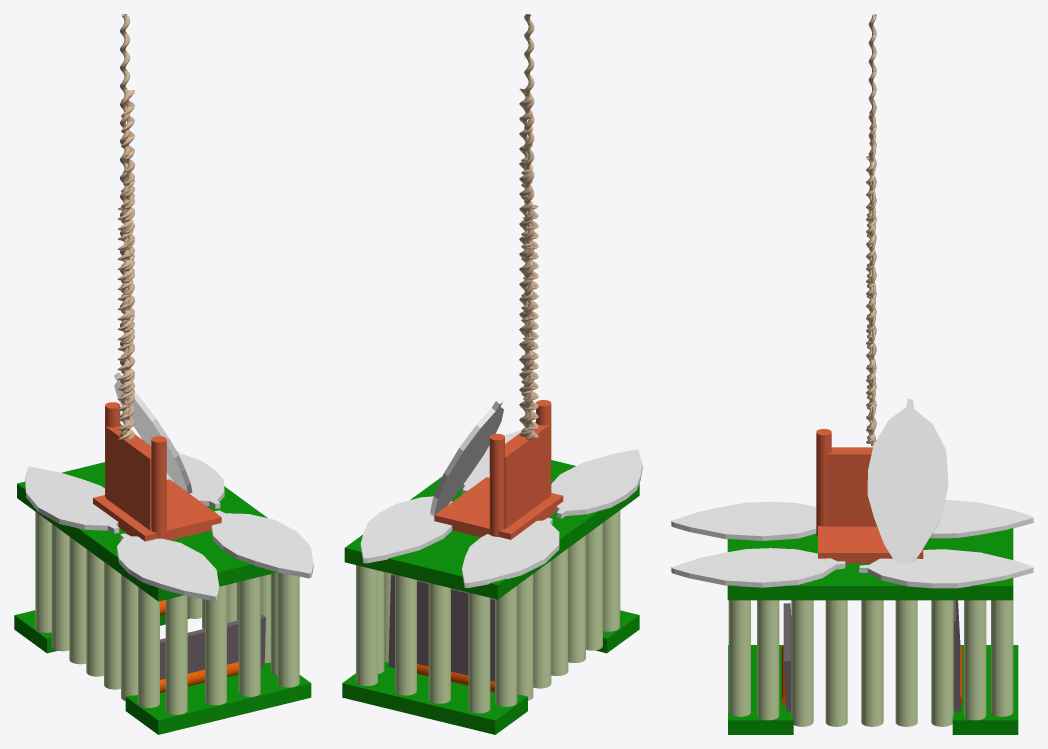
Rendered from cage4.fbx.
3 renders of one model, left to right at view 1: azimuth 30°, elevation 25°; view 2: azimuth 150°, elevation 25°; view 3: azimuth 270°, elevation 25°, orthographic.
Visible parts, largest first — view 1: Cube, Circle, Cube.004, Cube.008, Cube.009, Cube.007, Cube.002, Cube.001, Cylinder.019, Cylinder.021, Cylinder.018, Cylinder.010 (+14 smaller); view 2: Cube, Circle, Cube.005, Cube.008, Cube.007, Cube.003, Cube.002, Cube.006, Cube.001, Cylinder.025, Cylinder.024, Cylinder.016 (+15 smaller); view 3: Cube.010, Cube, Cube.009, Cube.003, Cube.008, Cube.002, Circle, Cylinder.003, Cylinder.005, Cylinder.004, Cylinder.006, Cylinder.002 (+11 smaller).
Part boxes in pixels (bbox=[...]): Cube: bbox=[17, 452, 277, 601]; Circle: bbox=[117, 14, 134, 439]; Cube.004: bbox=[125, 662, 311, 734]; Cube.008: bbox=[117, 533, 219, 601]; Cube.009: bbox=[211, 510, 313, 578]; Cube.007: bbox=[25, 466, 119, 533]; Cube.002: bbox=[105, 424, 151, 530]; Cube.001: bbox=[93, 479, 221, 541]; Cylinder.019: bbox=[238, 576, 260, 696]; Cylinder.021: bbox=[165, 595, 187, 714]; Cylinder.018: bbox=[277, 572, 299, 687]; Cylinder.010: bbox=[138, 587, 159, 707]; Cube: bbox=[344, 460, 639, 599]; Circle: bbox=[519, 14, 538, 439]; Cube.005: bbox=[342, 662, 527, 734]; Cube.008: bbox=[551, 449, 642, 518]; Cube.007: bbox=[462, 517, 559, 587]; Cube.003: bbox=[360, 496, 452, 563]; Cube.002: bbox=[504, 421, 549, 528]; Cube.006: bbox=[388, 574, 494, 692]; Cube.001: bbox=[434, 477, 563, 539]; Cylinder.025: bbox=[468, 592, 490, 713]; Cylinder.024: bbox=[428, 583, 450, 703]; Cylinder.016: bbox=[495, 586, 517, 706]; Cube.010: bbox=[867, 399, 948, 563]; Cube: bbox=[727, 528, 1013, 600]; Cube.009: bbox=[671, 548, 845, 587]; Cube.003: bbox=[859, 549, 1033, 588]; Cube.008: bbox=[671, 501, 816, 540]; Cube.002: bbox=[826, 447, 877, 526]; Circle: bbox=[866, 14, 876, 446]; Cylinder.003: bbox=[825, 600, 847, 726]; Cylinder.005: bbox=[895, 600, 917, 726]; Cylinder.004: bbox=[861, 600, 883, 726]; Cylinder.006: bbox=[931, 600, 953, 726]; Cylinder.002: bbox=[791, 600, 813, 726].
Bounding box in the file's own units: 4.46 × 16.39 × 8.12.
Materials: 7 (2 with a texture image).
